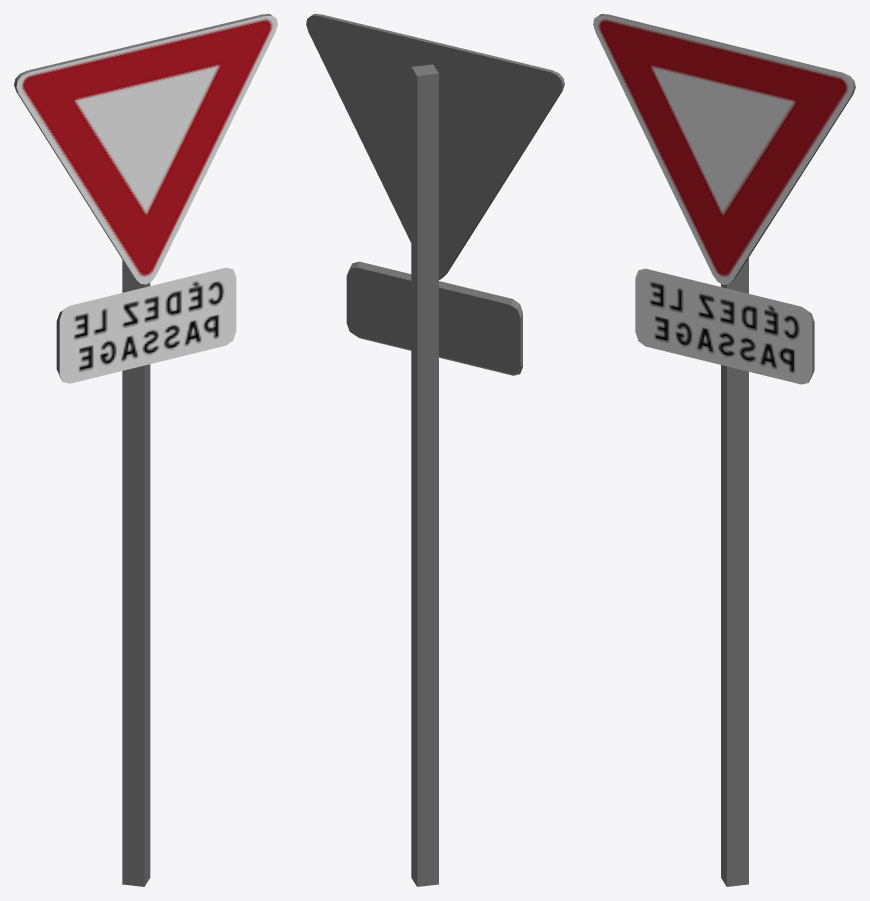
File: YieldRev.obj
The picture shows the model from 3 angles, left to right: view 1: azimuth 30°, elevation 25°; view 2: azimuth 150°, elevation 25°; view 3: azimuth 330°, elevation 25°; orthographic projection.
Visible parts, largest first — view 1: Sign_Yield; view 2: Sign_Yield; view 3: Sign_Yield.
Part boxes in pixels (<box>): Sign_Yield: <box>14,14,277,886</box>; Sign_Yield: <box>306,14,564,886</box>; Sign_Yield: <box>593,14,855,886</box>.
Bounding box in the file's own units: 1.47 × 4.55 × 0.1916.
1 material, 1 textured.
